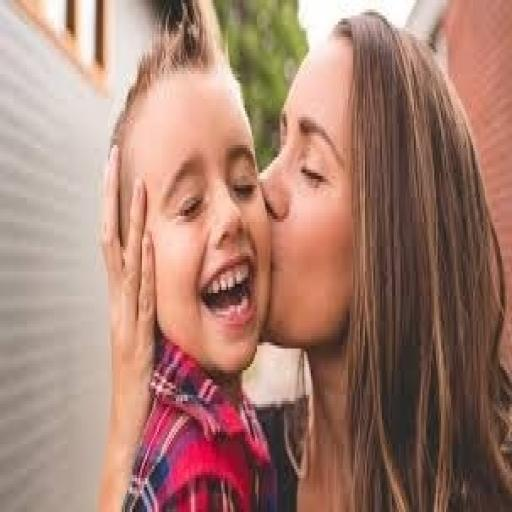hugging: (95, 3, 510, 509), (96, 3, 279, 509)
